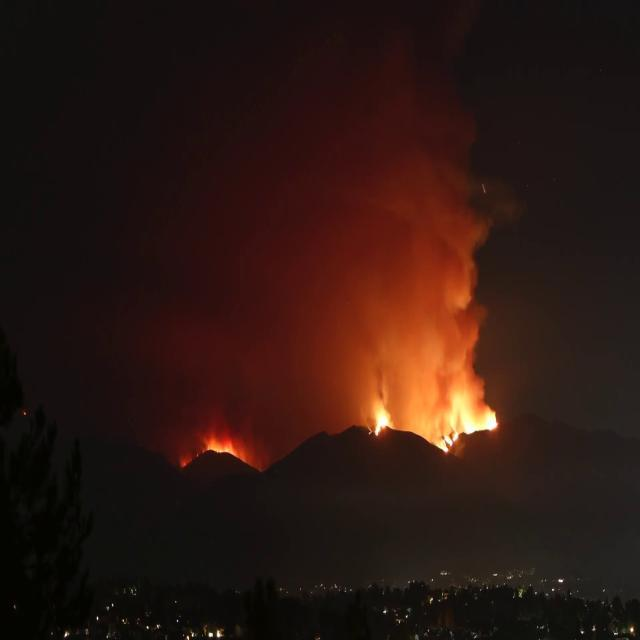Fire: (436, 408, 498, 450), (368, 411, 394, 434), (207, 439, 234, 455)
Smoke: (371, 71, 504, 352)
